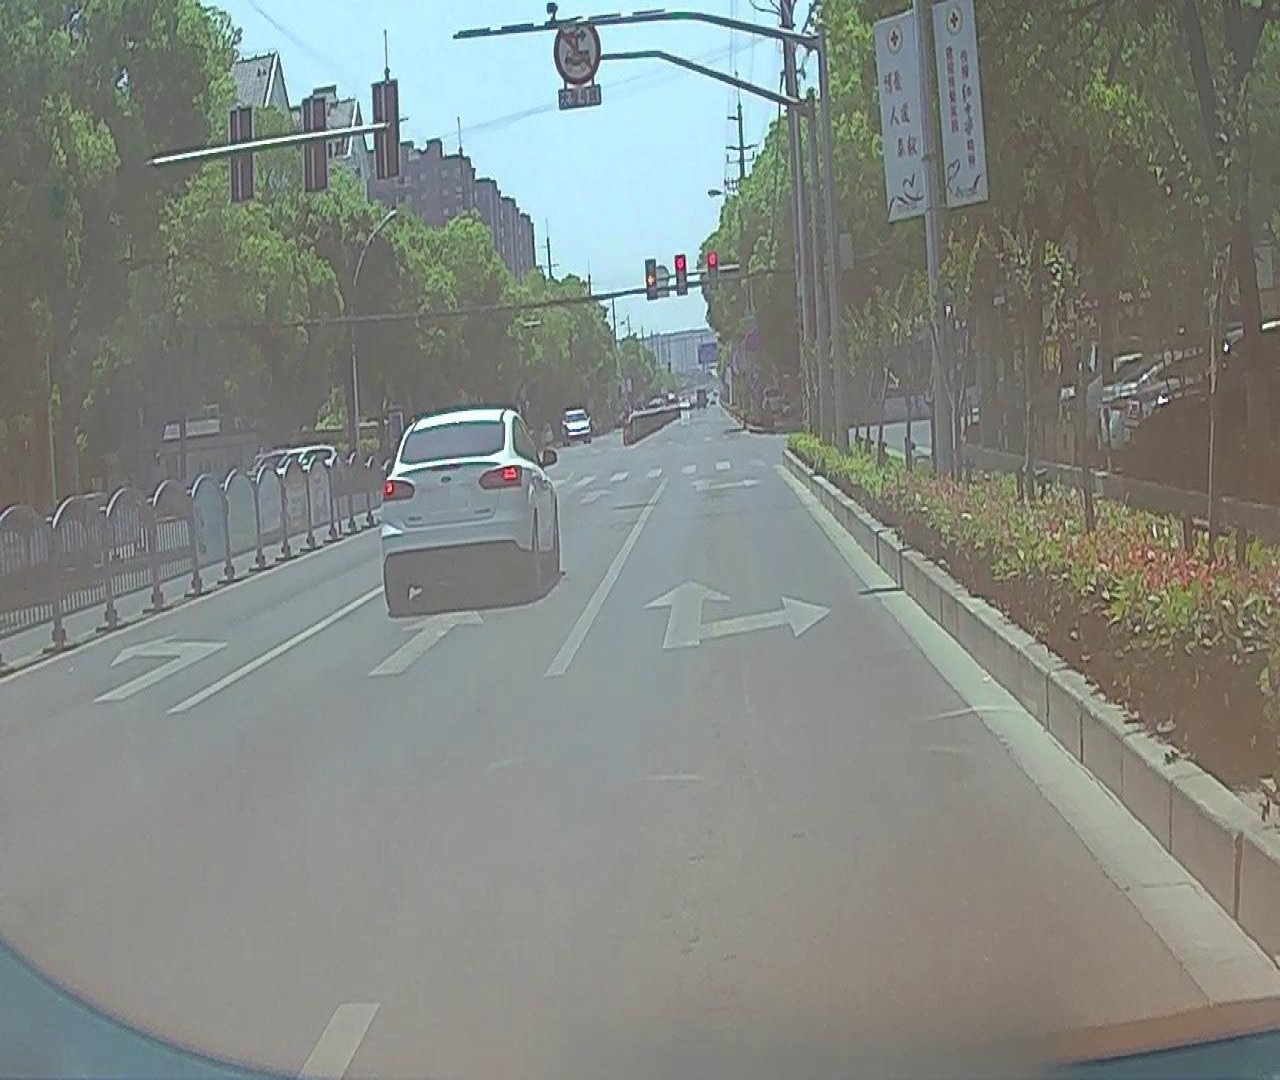red: (674, 253, 687, 295), (708, 250, 718, 289)
yellow: (645, 259, 657, 300)
